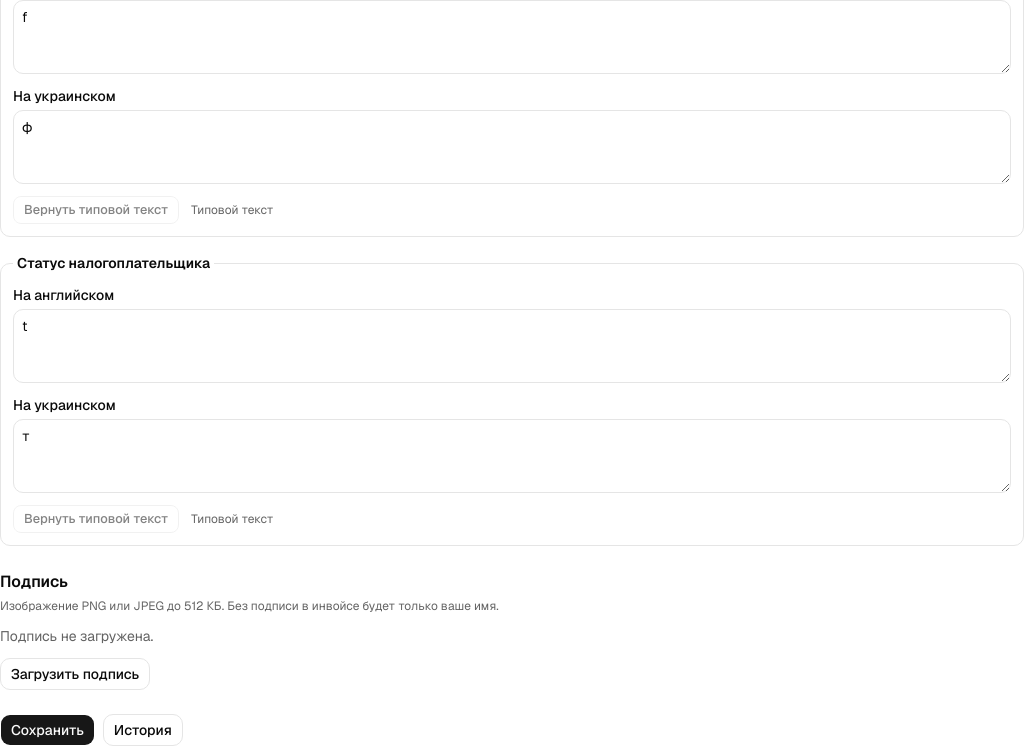
Scenario: InvoicingForm rejection › words a repeated currency and a missing bank in Russian
The width and height of the screenshot is (1024, 746).
(page scrolled)
Click the button "Сохранить".
click(47, 730)  # box [0,714,95,745]
(page scrolled)
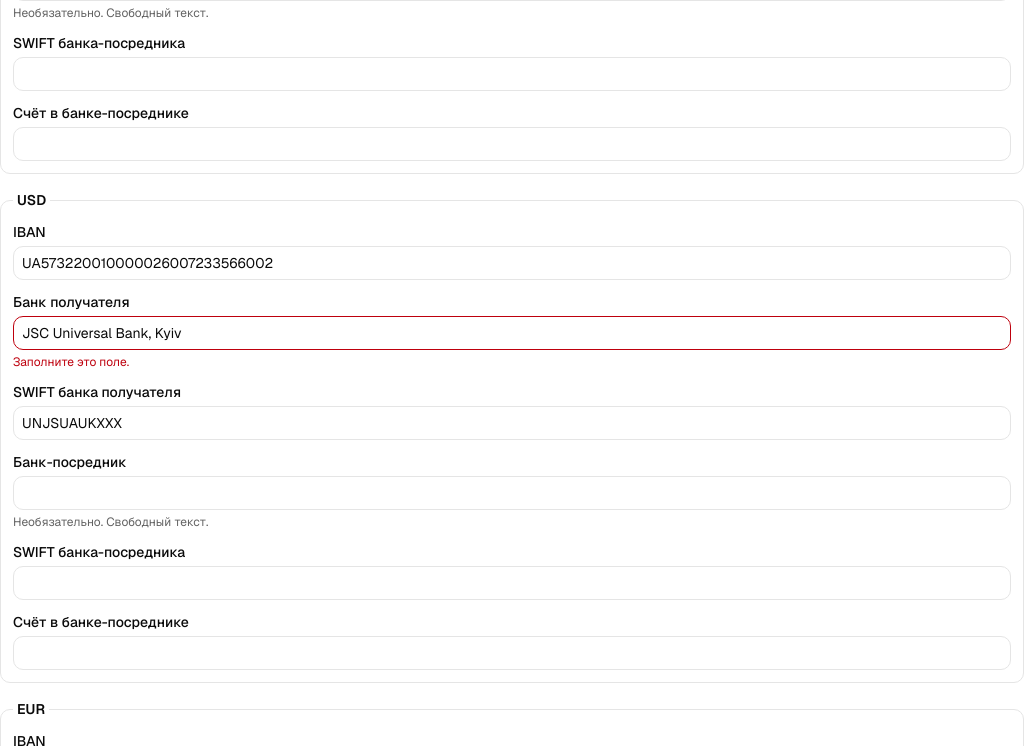
Check: the text "Заполните это поле." is shown, box [13,354,129,370]
